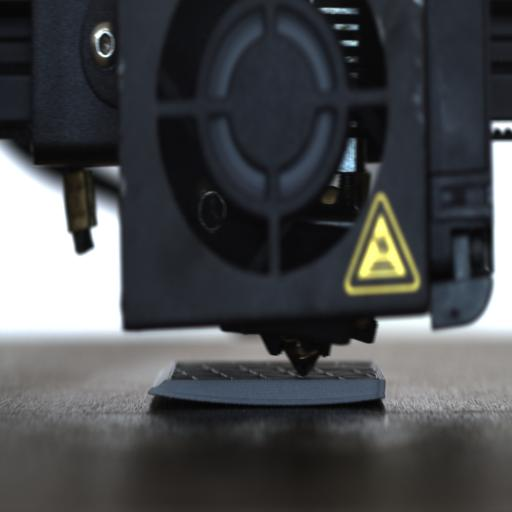warp: (145, 384, 221, 418)
